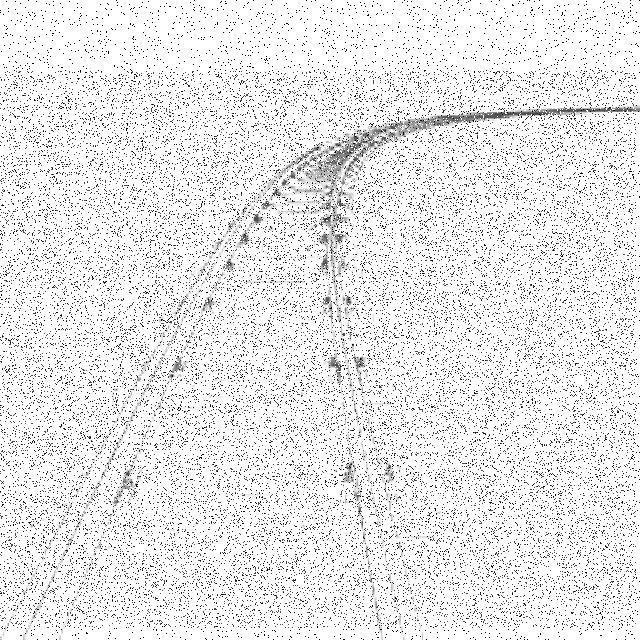rail: (0, 71, 636, 628)
